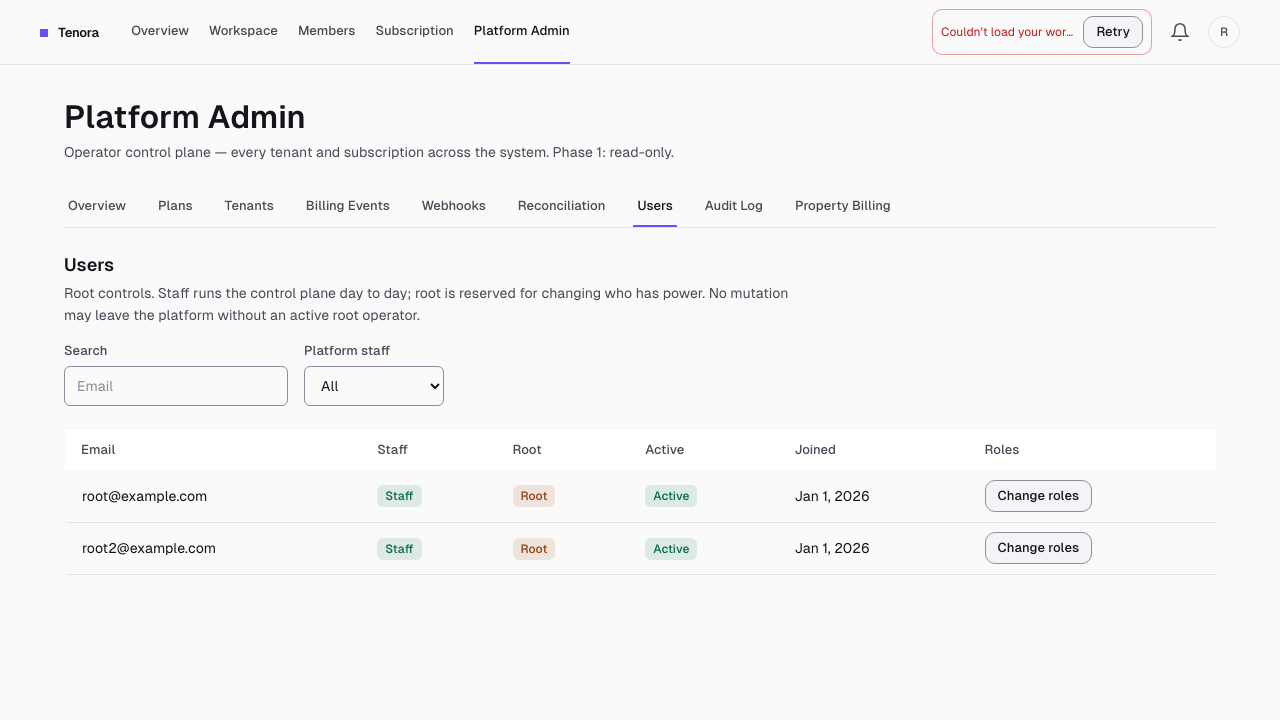
Scenario: /admin/users — role controls (Root tier) › cannot submit with nothing changed
This screenshot has width=1280, height=720.
Click the button "Change roles" in the row of "root2@example.com" at (1038, 548), box [984, 532, 1092, 564]
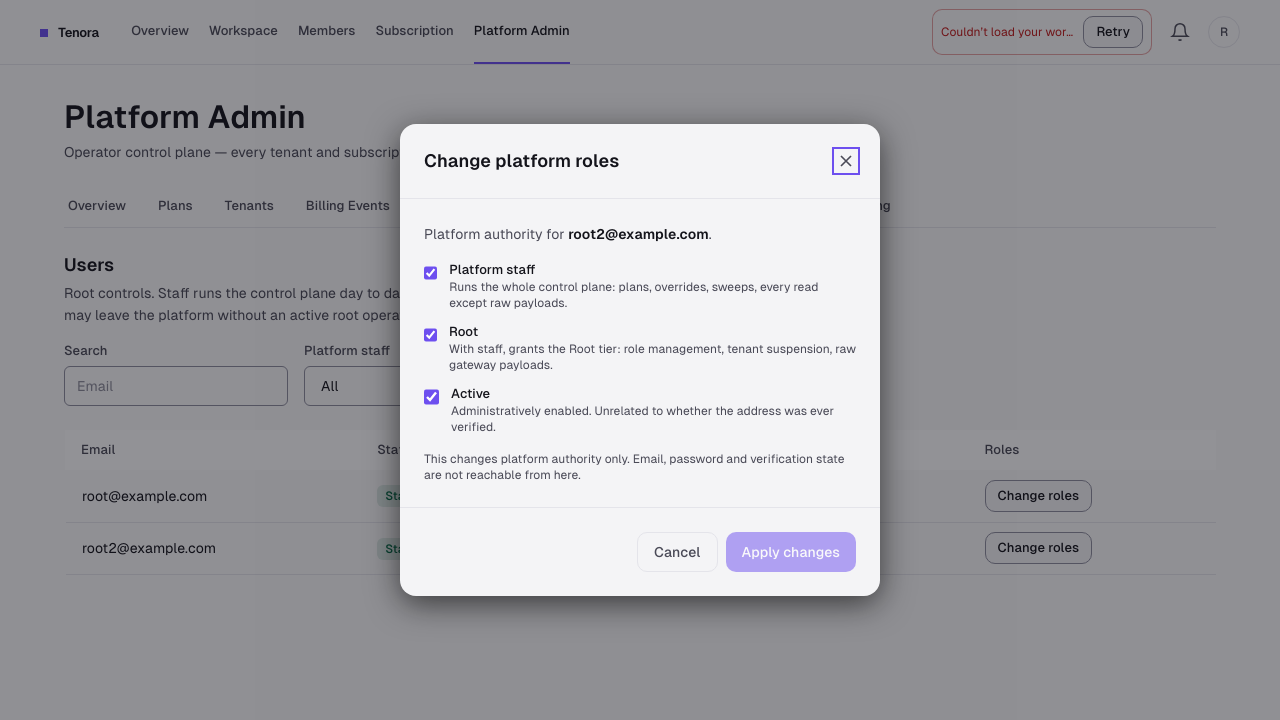
Check: the dialog is shown, box [400, 124, 880, 596]
Check: the button "Apply changes" is disabled, box [726, 532, 856, 572]
